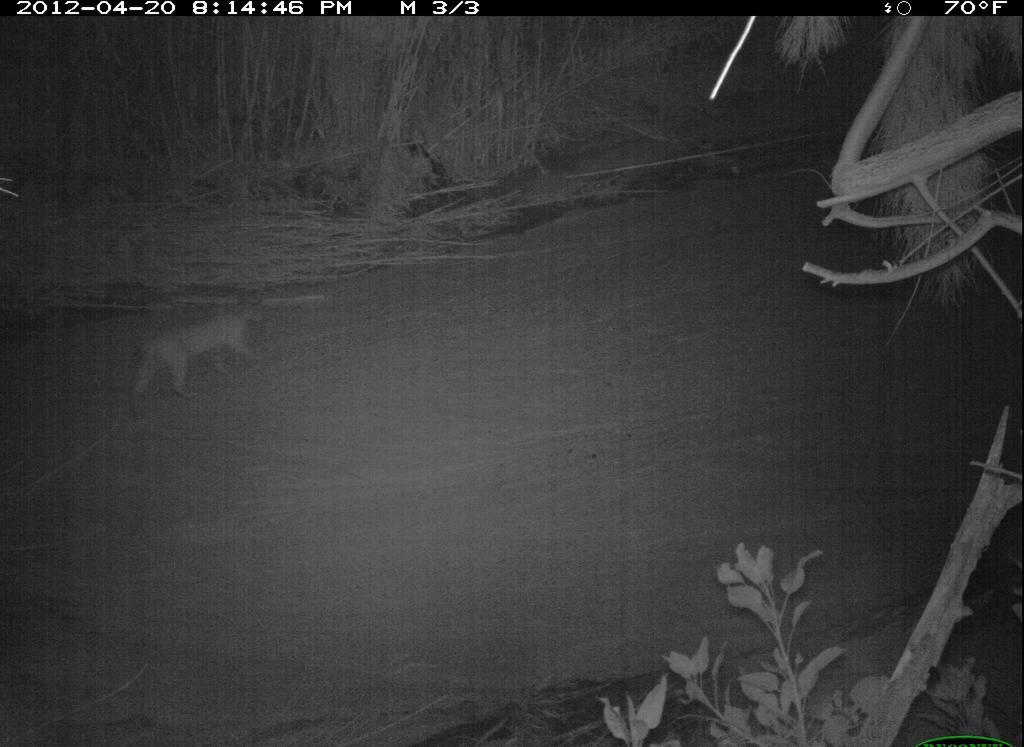bobcat: (114, 276, 276, 422)
